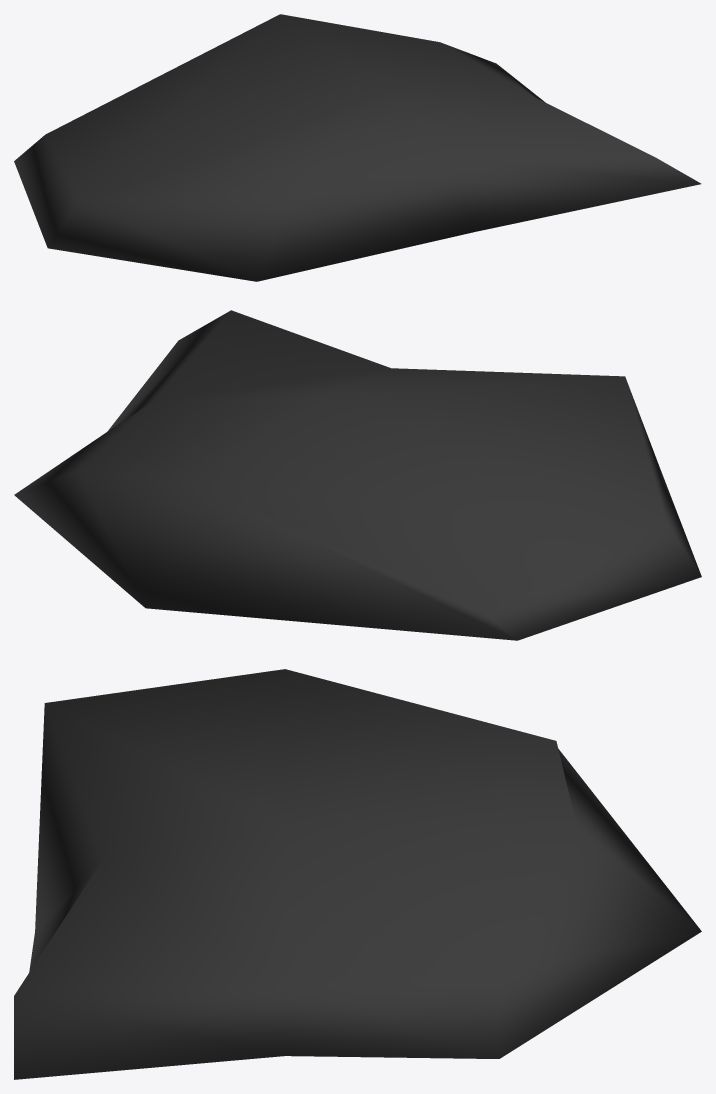
File: OBJ_Rocks_003.fbx
3 views of the same model, one above another, from view 1: azimuth 30°, elevation 25°; view 2: azimuth 150°, elevation 25°; view 3: azimuth 270°, elevation 25° (orthographic). The views are drawn at different scales.
Parts seen in each view (by area): view 1: Rock_003; view 2: Rock_003; view 3: Rock_003.
Boxes of the visible parts, x1,y1,x2,y2 form: Rock_003: (14, 14, 701, 281); Rock_003: (14, 310, 701, 640); Rock_003: (14, 669, 701, 1079).
Size of the model in its own units: 1025 by 132 by 790.
1 material, 1 textured.
